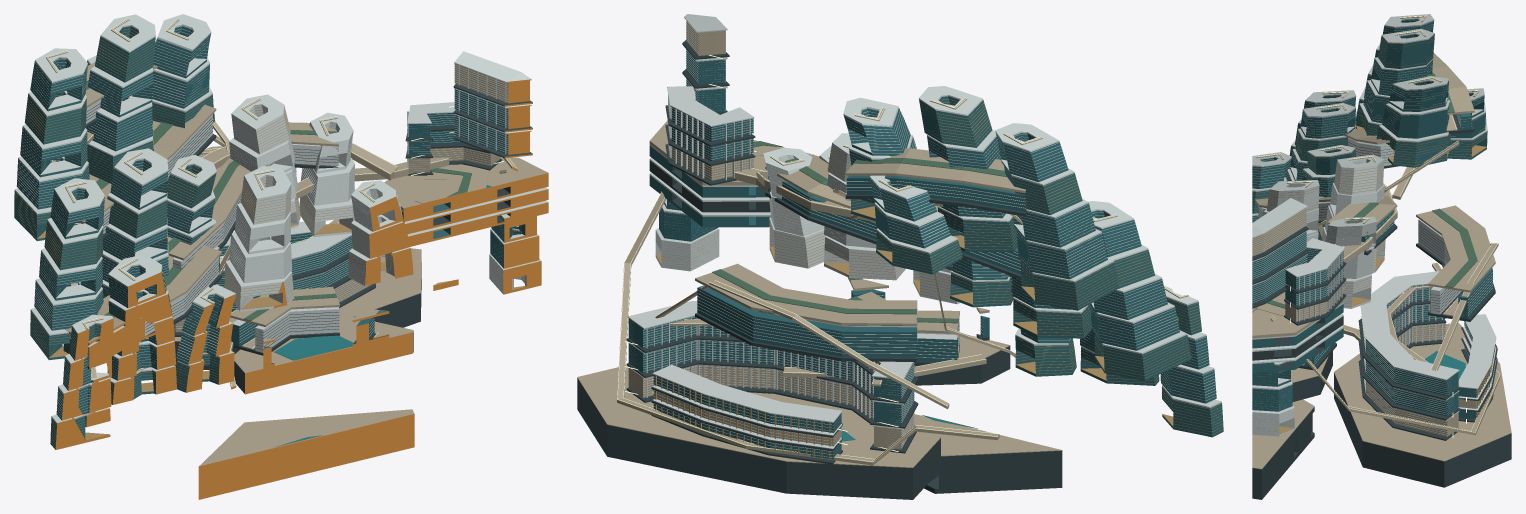
The picture shows the model from 3 angles, left to right: view 1: azimuth 30°, elevation 25°; view 2: azimuth 150°, elevation 25°; view 3: azimuth 270°, elevation 25°; orthographic projection. The views are drawn at different scales.
Visible parts, largest first — view 1: A_INNER_deep_public_land, A_INNER_public_surface, F_INNER_CITY_deep_public_land, H_CONTINUOUS_TOP_GROUND, L_CENTRAL_SADDLE_shared_roof_land, L_WEST_MIDDLE_outer_urban_shore, F_REVERSE_ISTHMUS_outer_urban_shore, C_REAR_DELTA_public_surface, W10_inhabited_cliff_3, W09_inhabited_cliff_3, W10_inhabited_cliff_1, F_INNER_CITY_public_surface (+80 smaller); view 2: C_REAR_DELTA_deep_public_land, C_REAR_DELTA_public_surface, N_REAR_HIGH_CITY_inner_urban_shore, A_INNER_deep_public_land, C_REAR_CIVILIZATION_inhabited_depth_1, N_REAR_HIGH_CITY_shared_roof_land, C_REAR_CIVILIZATION_inhabited_depth_0, T_REAR_LINK_public_deck, C_REVERSE_SHORE_roof_avenue_2, L_HIGHEST_SHARED_inner_urban_shore, L_HIGHEST_SHARED_shared_roof_land, W09_inhabited_cliff_1 (+73 smaller); view 3: C_REAR_DELTA_public_surface, C_REAR_DELTA_deep_public_land, C_REAR_CIVILIZATION_roof_avenue_2, N_REAR_HIGH_CITY_shared_roof_land, C_REAR_CIVILIZATION_inhabited_depth_1, A_INNER_deep_public_land, C_REAR_CIVILIZATION_inhabited_depth_0, C_REAR_CIVILIZATION_inhabited_depth_2, C_REVERSE_SHORE_roof_avenue_2, W11_inhabited_cliff_1, W10_inhabited_cliff_3, M02_inhabited_cliff_3 (+73 smaller).
Part boxes in pixels (x1,y1,x2,y2): A_INNER_deep_public_land: (198, 414, 414, 499); A_INNER_public_surface: (198, 409, 414, 466); F_INNER_CITY_deep_public_land: (234, 331, 413, 394); H_CONTINUOUS_TOP_GROUND: (384, 157, 548, 211); L_CENTRAL_SADDLE_shared_roof_land: (167, 122, 338, 260); L_WEST_MIDDLE_outer_urban_shore: (87, 257, 218, 366); F_REVERSE_ISTHMUS_outer_urban_shore: (255, 307, 339, 352); C_REAR_DELTA_public_surface: (173, 248, 421, 341); W10_inhabited_cliff_3: (95, 26, 155, 82); W09_inhabited_cliff_3: (24, 92, 86, 144); W10_inhabited_cliff_1: (87, 98, 152, 151); F_INNER_CITY_public_surface: (234, 314, 413, 373); C_REAR_DELTA_deep_public_land: (577, 378, 940, 499); C_REAR_DELTA_public_surface: (577, 365, 940, 467); N_REAR_HIGH_CITY_inner_urban_shore: (697, 285, 916, 357); A_INNER_deep_public_land: (924, 450, 1062, 493); C_REAR_CIVILIZATION_inhabited_depth_1: (628, 340, 914, 424); N_REAR_HIGH_CITY_shared_roof_land: (695, 263, 917, 325); C_REAR_CIVILIZATION_inhabited_depth_0: (628, 365, 914, 449); T_REAR_LINK_public_deck: (617, 192, 999, 465); C_REVERSE_SHORE_roof_avenue_2: (652, 364, 842, 422); L_HIGHEST_SHARED_inner_urban_shore: (846, 175, 1026, 211); L_HIGHEST_SHARED_shared_roof_land: (845, 148, 1025, 193); W09_inhabited_cliff_1: (1016, 229, 1107, 279); C_REAR_DELTA_public_surface: (1334, 323, 1511, 461); C_REAR_DELTA_deep_public_land: (1334, 373, 1511, 487); C_REAR_CIVILIZATION_roof_avenue_2: (1360, 271, 1459, 380); N_REAR_HIGH_CITY_shared_roof_land: (1416, 205, 1495, 292); C_REAR_CIVILIZATION_inhabited_depth_1: (1365, 305, 1458, 416); A_INNER_deep_public_land: (1252, 407, 1314, 499); C_REAR_CIVILIZATION_inhabited_depth_0: (1365, 323, 1458, 436); C_REAR_CIVILIZATION_inhabited_depth_2: (1365, 284, 1458, 395); C_REVERSE_SHORE_roof_avenue_2: (1458, 314, 1496, 389); W11_inhabited_cliff_1: (1382, 103, 1449, 138); W10_inhabited_cliff_3: (1378, 34, 1434, 68); M02_inhabited_cliff_3: (1334, 160, 1384, 195).
Bounding box in the file's own units: 5480 × 4333 × 2700.
